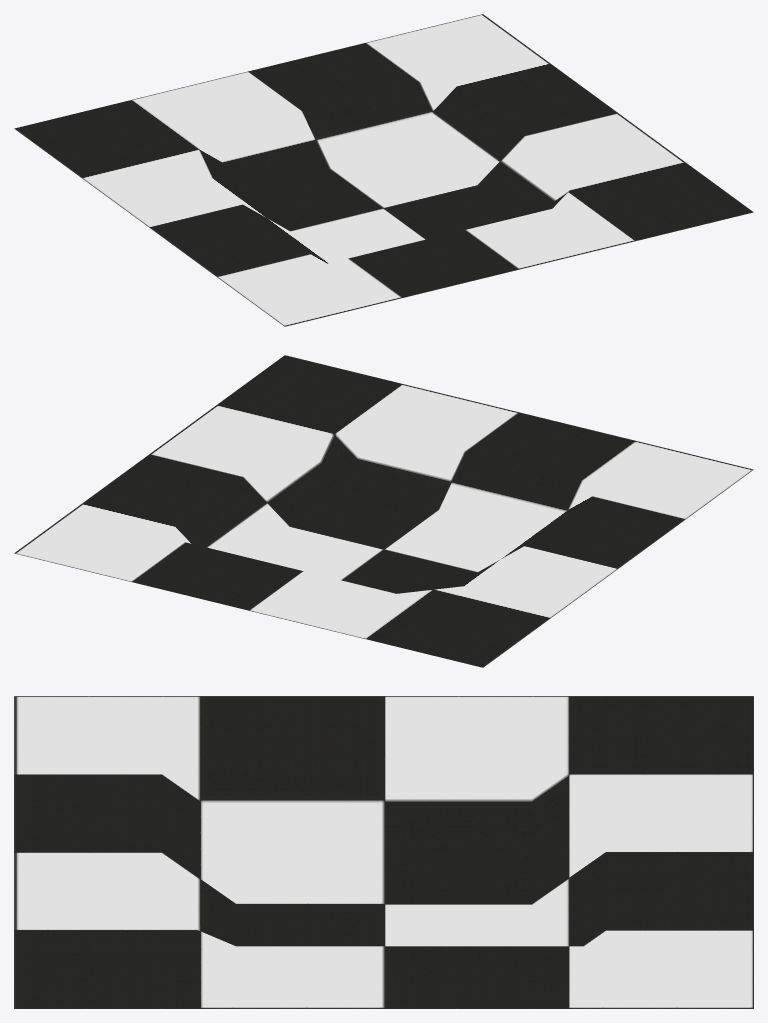
The model's file is BeachFloor.fbx.
The picture shows the model from 3 angles, top to bottom: view 1: azimuth 30°, elevation 25°; view 2: azimuth 150°, elevation 25°; view 3: azimuth 270°, elevation 25°; orthographic projection. The views are drawn at different scales.
Parts seen in each view (by area): view 1: Floor1; view 2: Floor1; view 3: Floor1.
Boxes of the visible parts, x1,y1,x2,y2 form: Floor1: (14,14,753,326); Floor1: (14,355,753,667); Floor1: (14,696,753,1008).
Size of the model in its own units: 1.72 by 0.1328 by 1.72.
